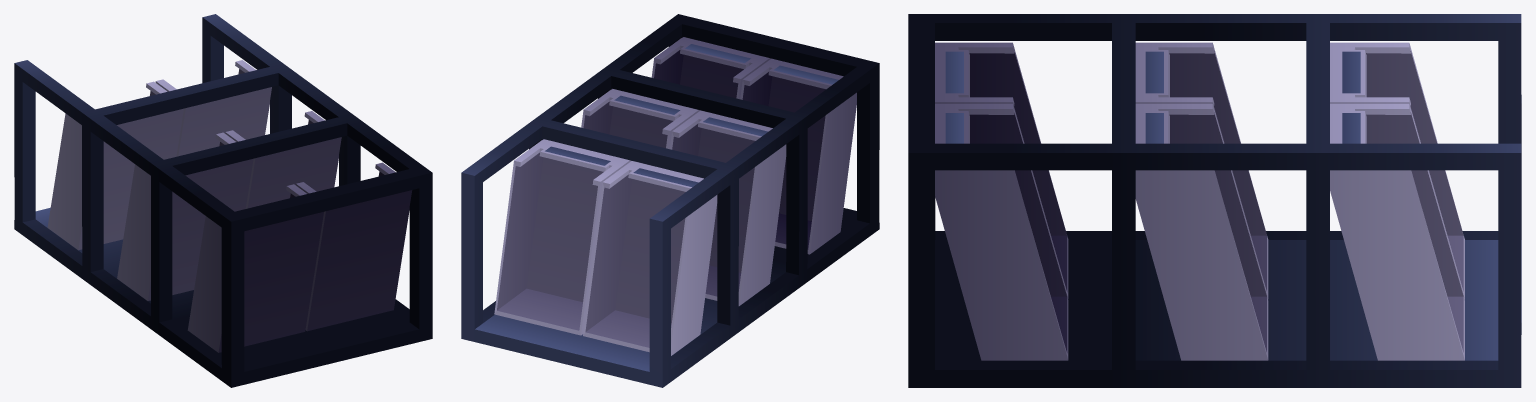
The model's file is Shelf_Box.fbx.
The picture shows the model from 3 angles, left to right: view 1: azimuth 30°, elevation 25°; view 2: azimuth 150°, elevation 25°; view 3: azimuth 270°, elevation 25°; orthographic projection. The views are drawn at different scales.
Parts seen in each view (by area): view 1: Rack; view 2: Rack; view 3: Rack.
Part boxes in pixels (bbox=[...]): Rack: bbox=[14, 14, 432, 387]; Rack: bbox=[461, 14, 879, 387]; Rack: bbox=[908, 14, 1521, 387].
Size of the model in its own units: 57.09 by 45.03 by 106.
1 material, 1 textured.
